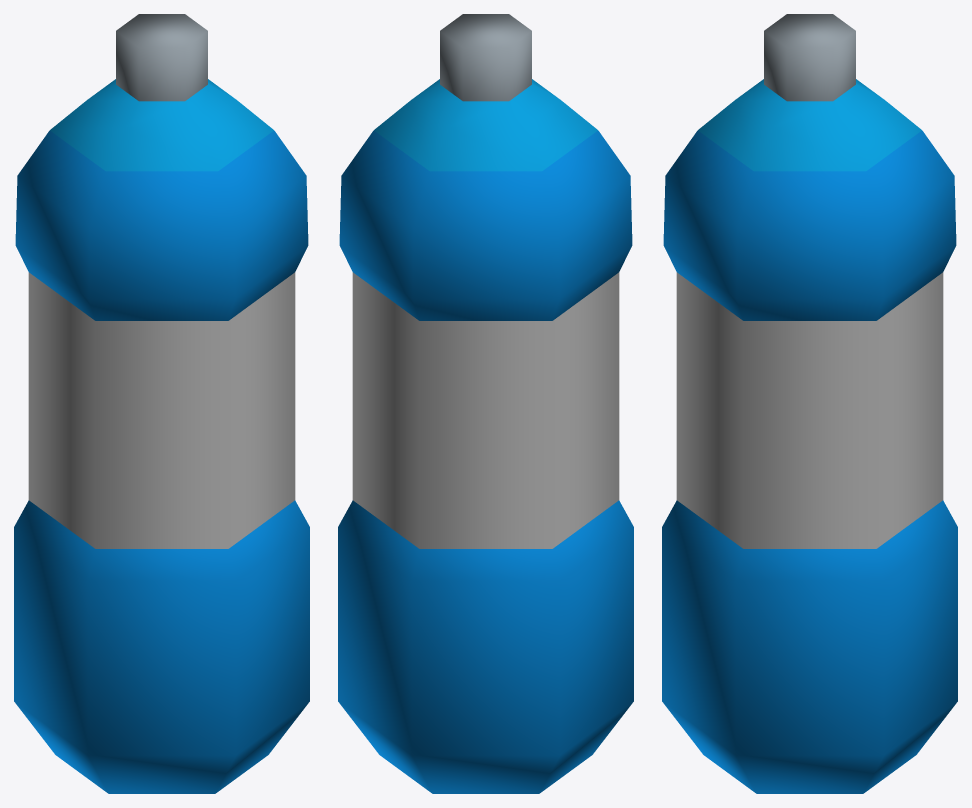
File: water_bottle.fbx
3 views of the same model, side by side, from view 1: azimuth 30°, elevation 25°; view 2: azimuth 150°, elevation 25°; view 3: azimuth 270°, elevation 25° (orthographic).
Parts seen in each view (by area): view 1: Water Bottle; view 2: Water Bottle; view 3: Water Bottle.
Part boxes in pixels (bbox=[...]): Water Bottle: bbox=[14, 14, 309, 793]; Water Bottle: bbox=[338, 14, 633, 793]; Water Bottle: bbox=[662, 14, 957, 793].
Size of the model in its own units: 0.3225 by 0.3724 by 1.01.
